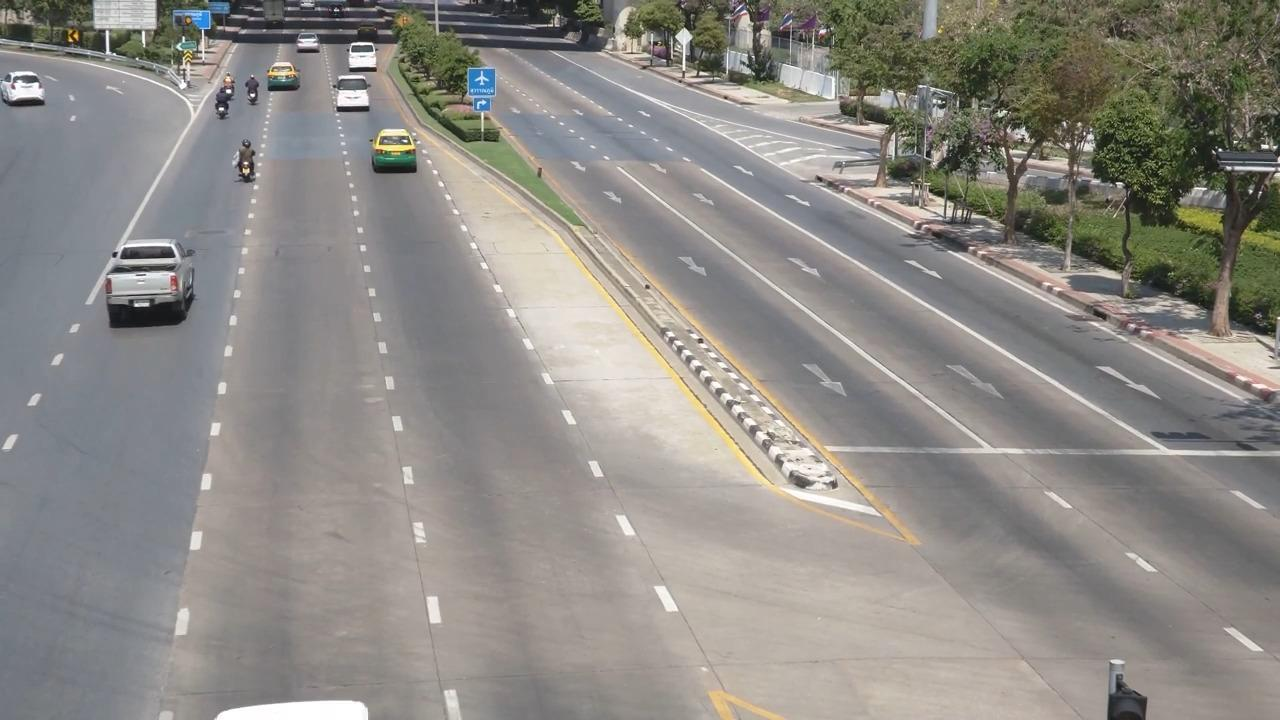CAR: (97, 228, 211, 338), (357, 116, 436, 192), (323, 68, 383, 130), (0, 63, 61, 122), (335, 39, 387, 86), (287, 29, 341, 70), (259, 58, 308, 103)
MOTOR: (221, 136, 270, 198), (238, 65, 276, 112), (203, 81, 238, 128)
